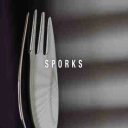fork: (13, 10, 81, 128)
